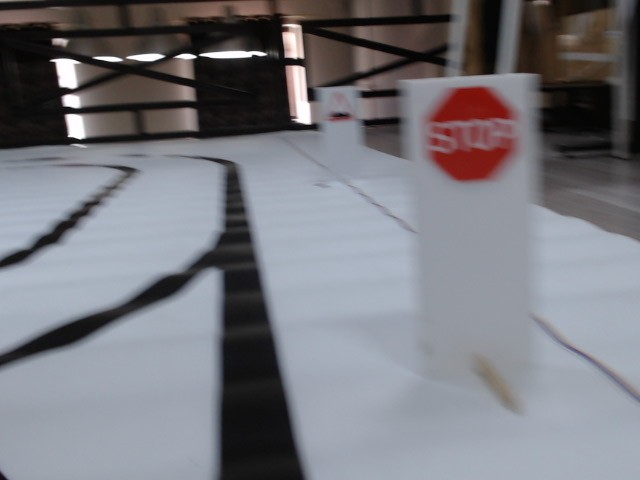Stop: (424, 87, 520, 178)
